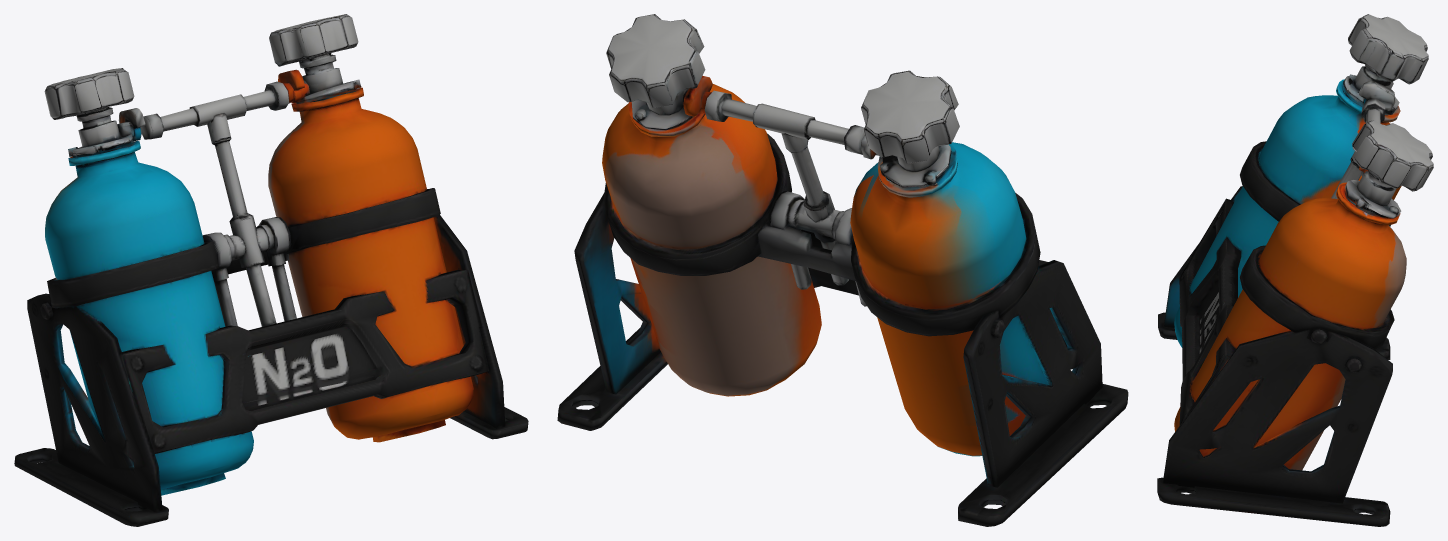
Rendered from bison-nitro_kit.glb.
3 renders of one model, left to right at view 1: azimuth 30°, elevation 25°; view 2: azimuth 150°, elevation 25°; view 3: azimuth 270°, elevation 25°, orthographic. The views are drawn at different scales.
Parts seen in each view (by area): view 1: tripo_node_2d54675b-cfa5-48b2-b23a-8e218f42db63; view 2: tripo_node_2d54675b-cfa5-48b2-b23a-8e218f42db63; view 3: tripo_node_2d54675b-cfa5-48b2-b23a-8e218f42db63.
Boxes of the visible parts, x1,y1,x2,y2 form: tripo_node_2d54675b-cfa5-48b2-b23a-8e218f42db63: [14, 14, 528, 526]; tripo_node_2d54675b-cfa5-48b2-b23a-8e218f42db63: [557, 14, 1128, 526]; tripo_node_2d54675b-cfa5-48b2-b23a-8e218f42db63: [1157, 14, 1433, 526].
Bounding box in the file's own units: 0.7692 × 0.7 × 0.4892.
Materials: 1 (1 with a texture image).
